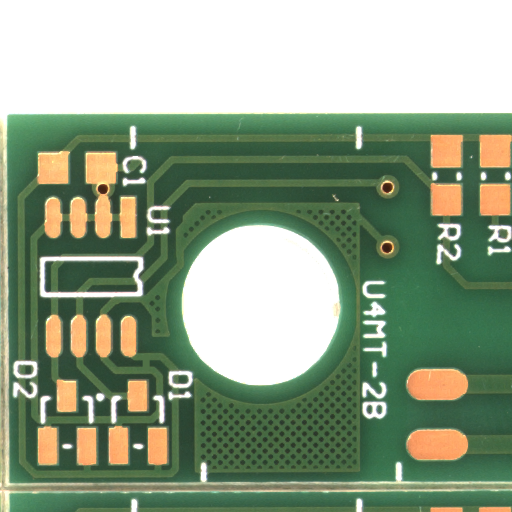Short: (146, 363, 161, 378)
